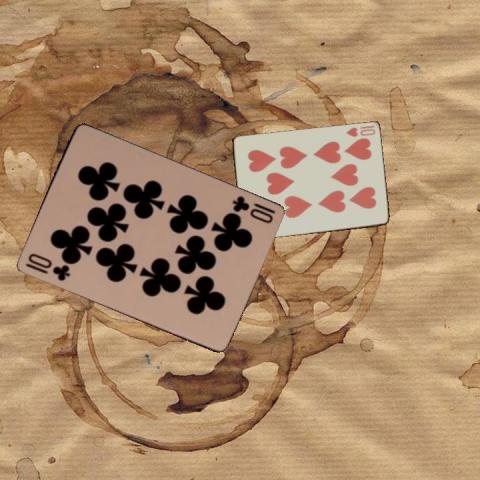10c: (22, 250, 71, 283), (228, 193, 276, 225)
10h: (342, 122, 376, 138)
